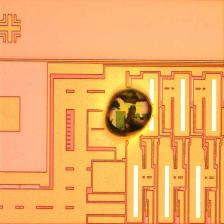PARTICLE: (98, 83, 158, 146)
